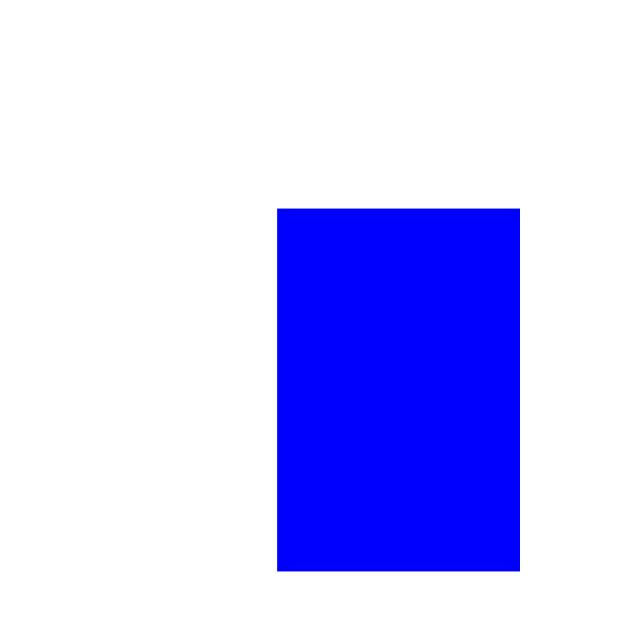Rectangle: (233, 156, 556, 598)
